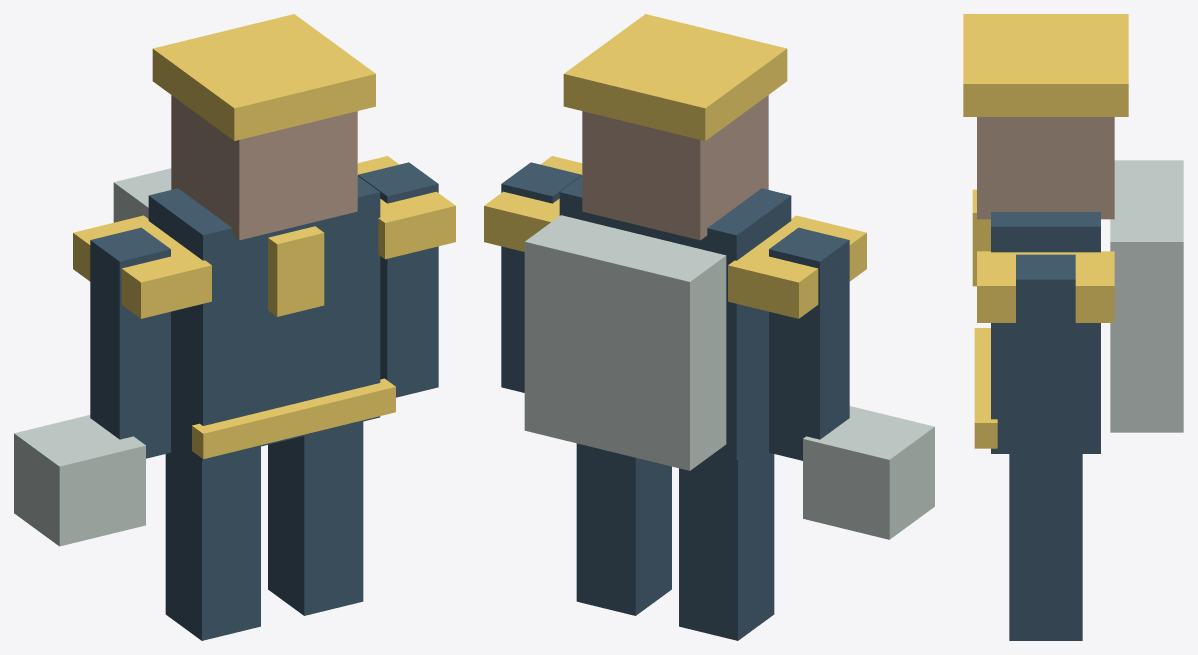
The model's file is 05_zerin_trenchmark_custodian_from_street.glb.
3 renders of one model, left to right at view 1: azimuth 30°, elevation 25°; view 2: azimuth 150°, elevation 25°; view 3: azimuth 270°, elevation 25°, orthographic.
Visible parts, largest first — view 1: Zerin Trenchmark, Custodian from Street; view 2: Zerin Trenchmark, Custodian from Street; view 3: Zerin Trenchmark, Custodian from Street.
Part boxes in pixels (x1=…): Zerin Trenchmark, Custodian from Street: x1=14, y1=14, x2=455, y2=640; Zerin Trenchmark, Custodian from Street: x1=484, y1=14, x2=934, y2=640; Zerin Trenchmark, Custodian from Street: x1=963, y1=14, x2=1183, y2=640.
Bounding box in the file's own units: 1.07 × 1.43 × 0.5156.
